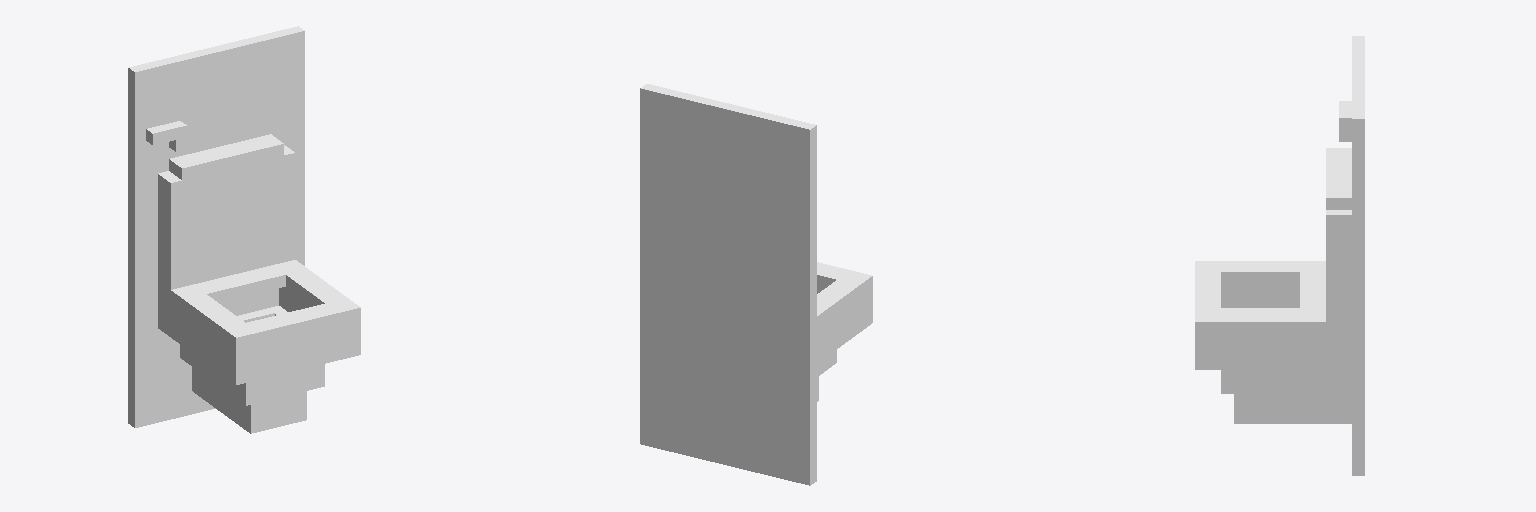
Rendered from Toilet.obj.
3 renders of one model, left to right at view 1: azimuth 30°, elevation 25°; view 2: azimuth 150°, elevation 25°; view 3: azimuth 270°, elevation 25°, orthographic.
Visible parts, largest first — view 1: object 1; view 2: object 1; view 3: object 1.
Boxes of the visible parts, x1=… form: object 1: x1=128, y1=26, x2=360, y2=433; object 1: x1=640, y1=84, x2=872, y2=485; object 1: x1=1195, y1=36, x2=1364, y2=475.
Size of the model in its own units: 1.5 by 3 by 1.3.